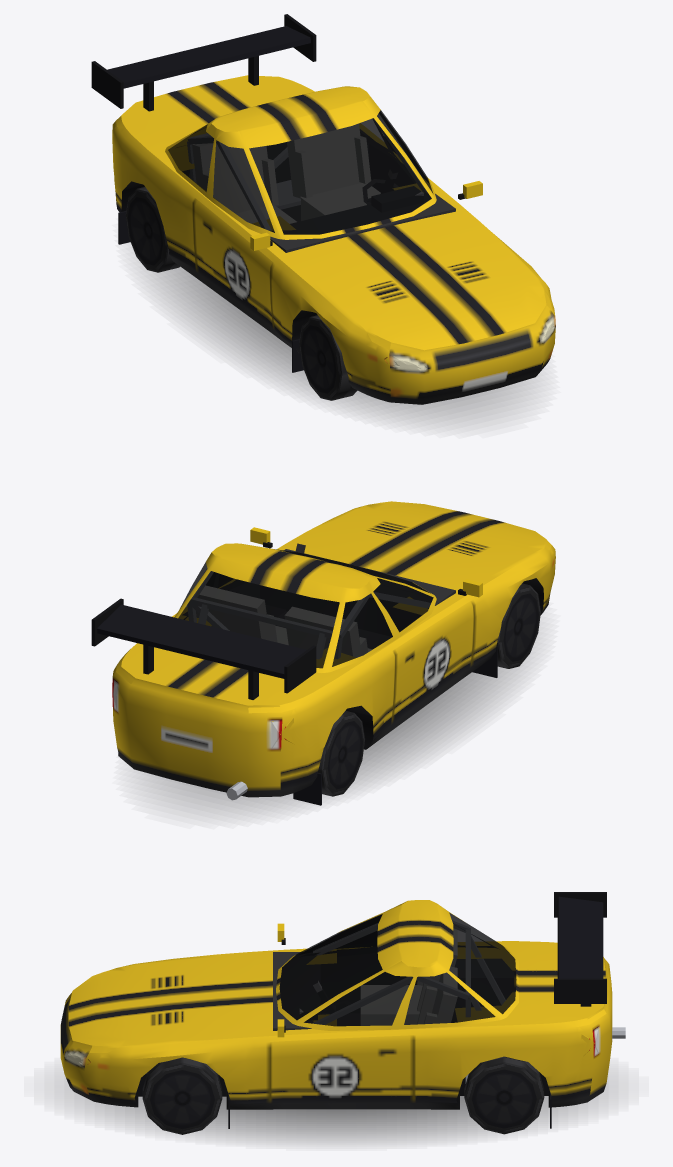
Rendered from lampiao.glb.
3 views of the same model, one above another, from view 1: azimuth 30°, elevation 25°; view 2: azimuth 150°, elevation 25°; view 3: azimuth 270°, elevation 25° (orthographic). The views are drawn at different scales.
Visible parts, largest first — view 1: Carroceria, Capo_malha, Interior, Porta_D_malha, Tampa_malha, Sombra, Roda_DD, Roda_TD, Porta_E_malha; view 2: Carroceria, Capo_malha, Tampa_malha, Interior, Sombra, Porta_D_malha, Roda_TD, Roda_DD; view 3: Carroceria, Porta_E_malha, Capo_malha, Interior, Sombra, Tampa_malha, Roda_TE, Roda_DE, Porta_D_malha.
Part boxes in pixels (left/top/right/bottom): Carroceria: left=91, top=14, right=555, bottom=404; Capo_malha: left=292, top=219, right=551, bottom=350; Interior: left=183, top=114, right=455, bottom=252; Porta_D_malha: left=193, top=130, right=280, bottom=327; Tampa_malha: left=107, top=26, right=312, bottom=138; Sombra: left=143, top=265, right=530, bottom=423; Roda_DD: left=299, top=315, right=357, bottom=400; Roda_TD: left=125, top=187, right=179, bottom=272; Porta_E_malha: left=363, top=96, right=482, bottom=201; Carroceria: left=91, top=504, right=555, bottom=805; Capo_malha: left=292, top=501, right=551, bottom=585; Tampa_malha: left=97, top=604, right=315, bottom=713; Interior: left=183, top=543, right=455, bottom=658; Sombra: left=141, top=656, right=529, bottom=813; Porta_D_malha: left=364, top=574, right=482, bottom=722; Roda_TD: left=317, top=710, right=364, bottom=796; Roda_DD: left=496, top=583, right=540, bottom=668; Carroceria: left=60, top=892, right=625, bottom=1128; Porta_E_malha: left=270, top=961, right=413, bottom=1102; Capo_malha: left=74, top=954, right=254, bottom=1052; Interior: left=146, top=921, right=513, bottom=1083; Sombra: left=64, top=1076, right=608, bottom=1142; Tampa_malha: left=536, top=896, right=606, bottom=1026; Roda_TE: left=464, top=1056, right=544, bottom=1134; Roda_DE: left=142, top=1057, right=222, bottom=1134; Porta_D_malha: left=277, top=901, right=406, bottom=953.
Bounding box in the file's own units: 2.36 × 1.32 × 4.85.
Materials: 13 (5 with a texture image).
